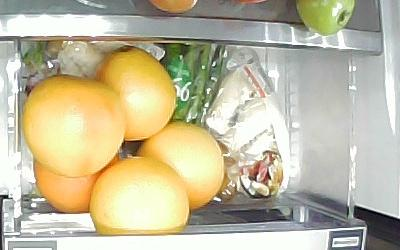grapefruit: (21, 73, 126, 177), (134, 120, 225, 210), (87, 155, 190, 234), (93, 44, 176, 141), (32, 153, 119, 213)
